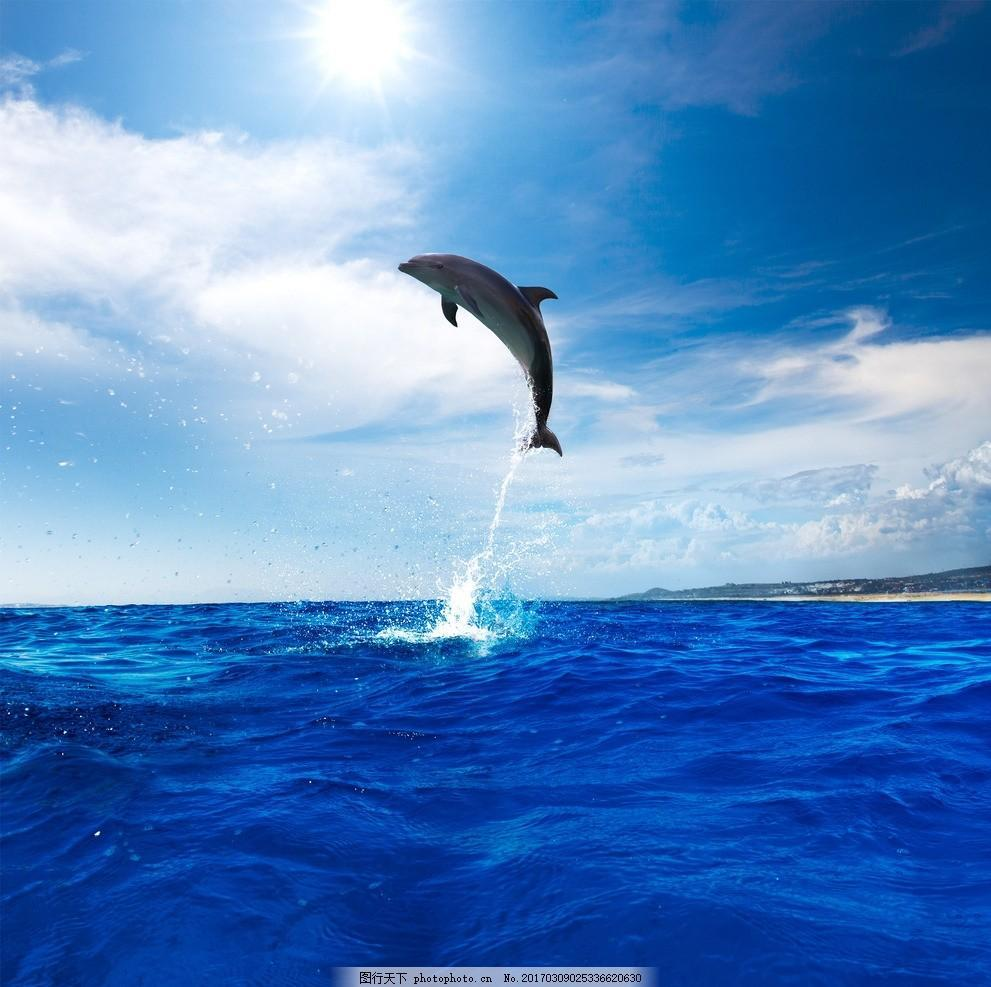fish: (395, 248, 576, 458)
